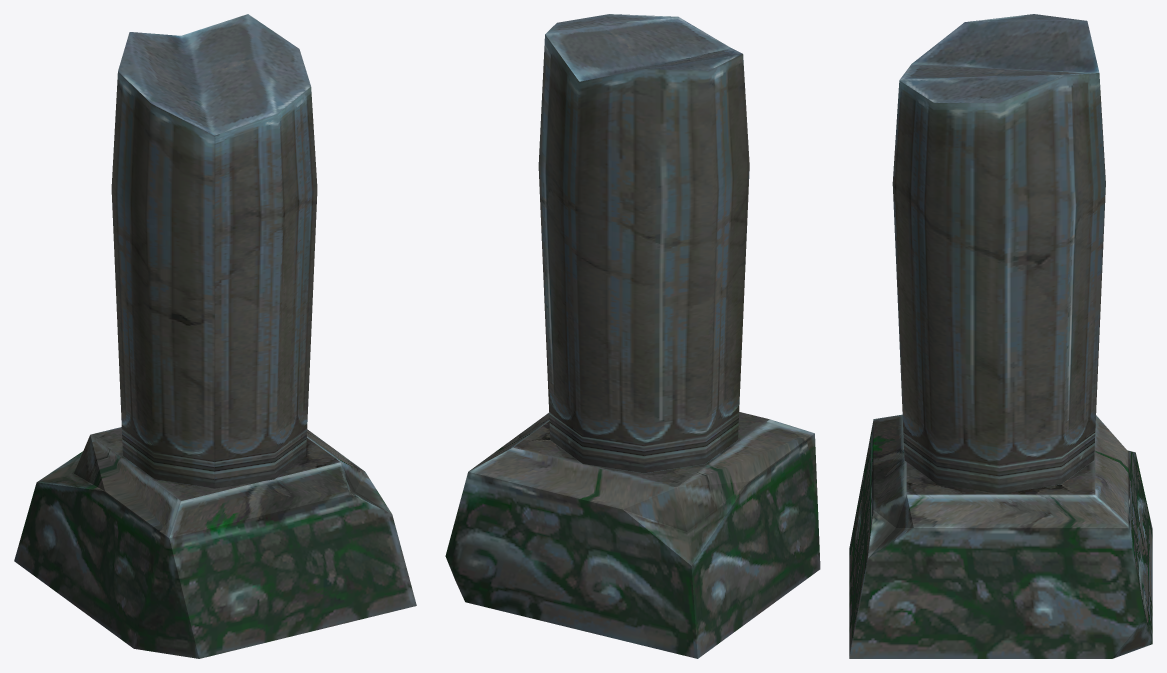
Rendered from stemple_pillar_03.fbx.
The picture shows the model from 3 angles, left to right: view 1: azimuth 30°, elevation 25°; view 2: azimuth 150°, elevation 25°; view 3: azimuth 270°, elevation 25°; orthographic projection. The views are drawn at different scales.
Parts seen in each view (by area): view 1: sunken_tileset/sunken_wall_convex02_mat; view 2: sunken_tileset/sunken_wall_convex02_mat; view 3: sunken_tileset/sunken_wall_convex02_mat.
Part boxes in pixels (<box>): sunken_tileset/sunken_wall_convex02_mat: <box>14,14,416,658</box>; sunken_tileset/sunken_wall_convex02_mat: <box>445,14,820,658</box>; sunken_tileset/sunken_wall_convex02_mat: <box>849,14,1152,658</box>.
Size of the model in its own units: 2.26 by 4.47 by 2.23.
